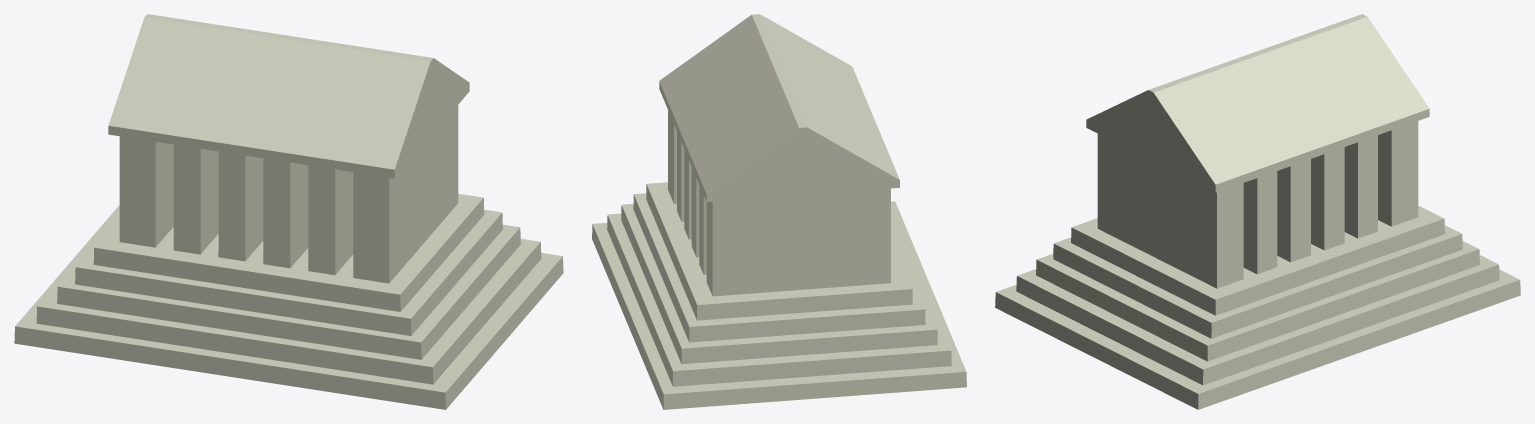
The model's file is templeofArtemis.fbx.
3 renders of one model, left to right at view 1: azimuth 30°, elevation 25°; view 2: azimuth 150°, elevation 25°; view 3: azimuth 270°, elevation 25°, orthographic. The views are drawn at different scales.
Parts seen in each view (by area): view 1: steps_geo, roof_geo, pillars_geo; view 2: steps_geo, roof_geo, pillars_geo; view 3: steps_geo, roof_geo, pillars_geo.
Part boxes in pixels (bbox=[...]): steps_geo: bbox=[14, 193, 563, 409]; roof_geo: bbox=[108, 14, 469, 178]; pillars_geo: bbox=[119, 105, 458, 283]; steps_geo: bbox=[592, 182, 966, 409]; roof_geo: bbox=[659, 14, 899, 201]; pillars_geo: bbox=[668, 110, 890, 296]; steps_geo: bbox=[995, 205, 1520, 409]; roof_geo: bbox=[1086, 14, 1429, 192]; pillars_geo: bbox=[1097, 121, 1418, 288].
Size of the model in its own units: 13.73 by 7.33 by 14.07.
